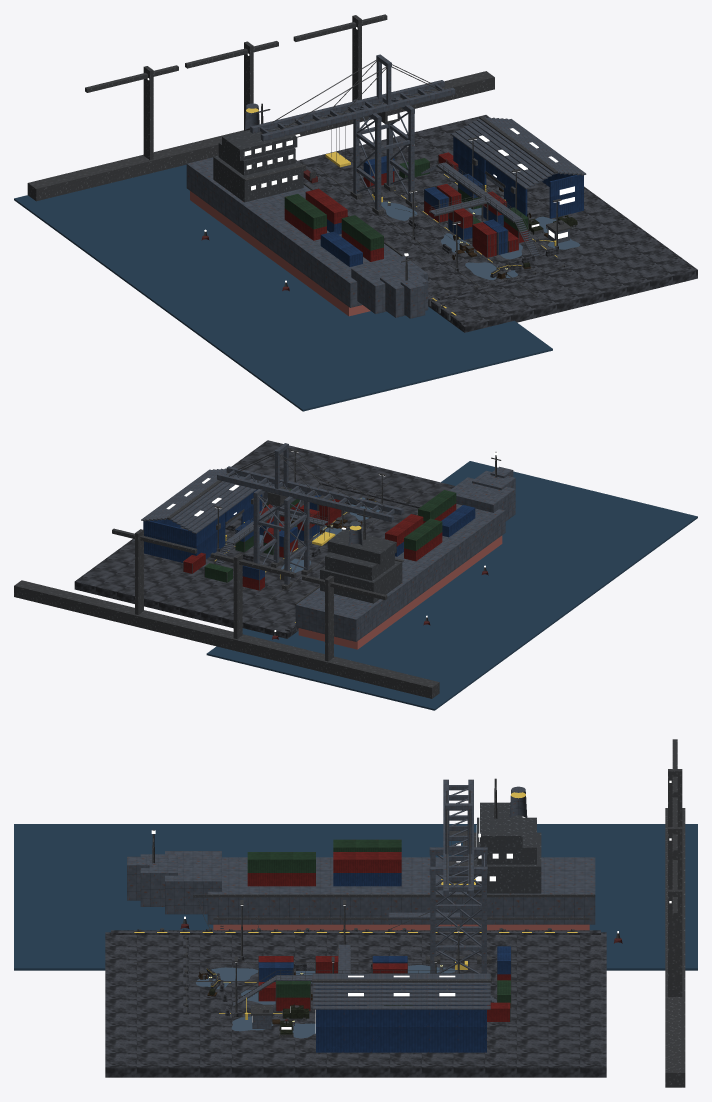
The model's file is port_environment.glb.
The picture shows the model from 3 angles, top to bottom: view 1: azimuth 30°, elevation 25°; view 2: azimuth 150°, elevation 25°; view 3: azimuth 270°, elevation 25°; orthographic projection. The views are drawn at different scales.
Visible parts, largest first — view 1: NightPort_Environment; view 2: NightPort_Environment; view 3: NightPort_Environment.
Part boxes in pixels (left/top/right/bottom): NightPort_Environment: left=14, top=14, right=697, bottom=411; NightPort_Environment: left=14, top=440, right=697, bottom=710; NightPort_Environment: left=14, top=739, right=697, bottom=1087.
Size of the model in its own units: 112 by 34.45 by 120.
Materials: 18 (10 with a texture image).
